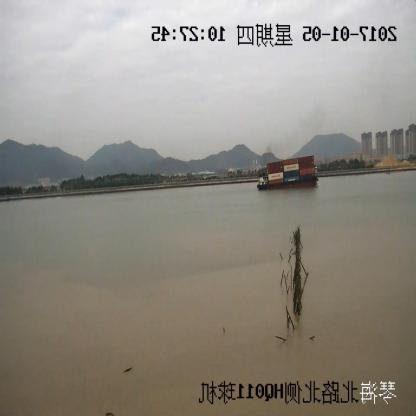Container Ship: (258, 157, 320, 190)
